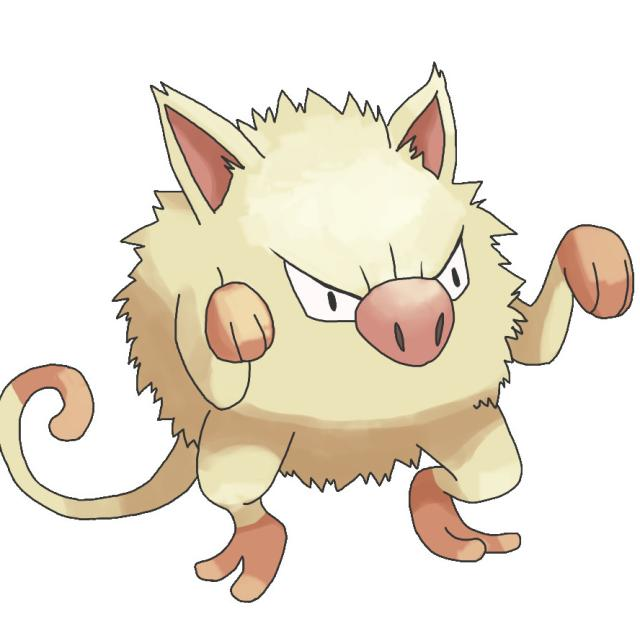Mankey: (115, 62, 554, 569)
